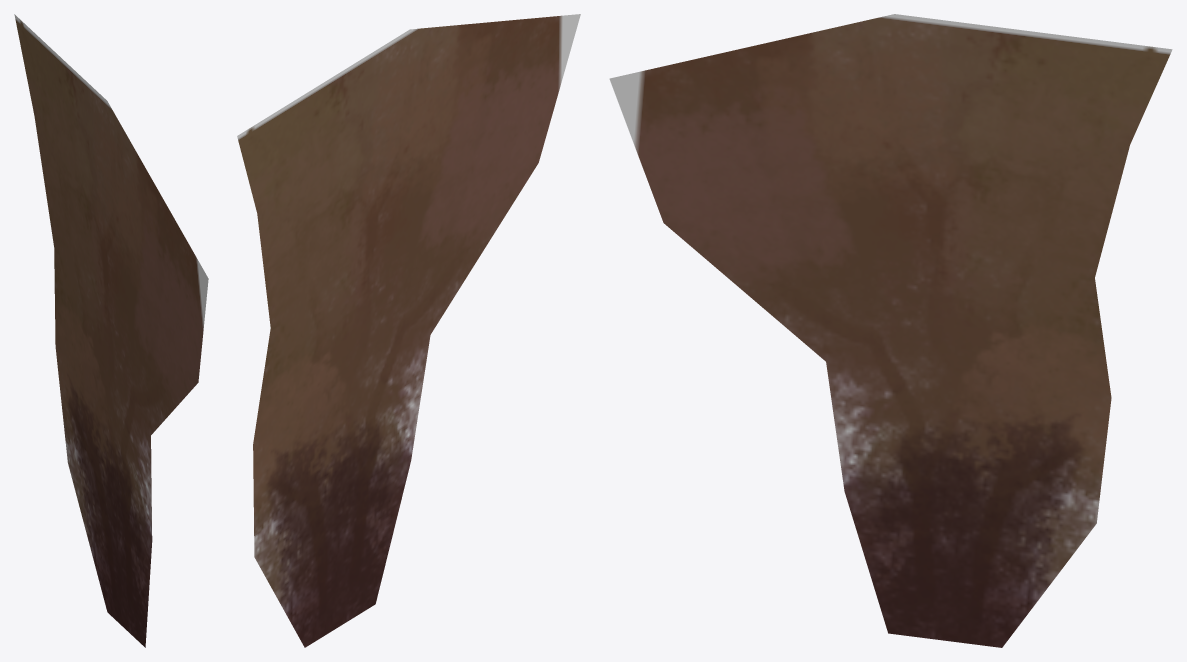
The model's file is branch6.fbx.
3 views of the same model, side by side, from view 1: azimuth 30°, elevation 25°; view 2: azimuth 150°, elevation 25°; view 3: azimuth 270°, elevation 25° (orthographic). The views are drawn at different scales.
Parts seen in each view (by area): view 1: branch6; view 2: branch6; view 3: branch6.
Part boxes in pixels (bbox=[...]): branch6: bbox=[14, 14, 208, 647]; branch6: bbox=[237, 14, 580, 647]; branch6: bbox=[609, 14, 1172, 647].
Size of the model in its own units: 114 by 729 by 612.
